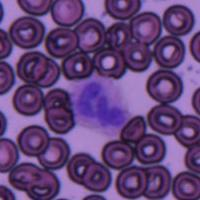N: (72, 77, 132, 135)
